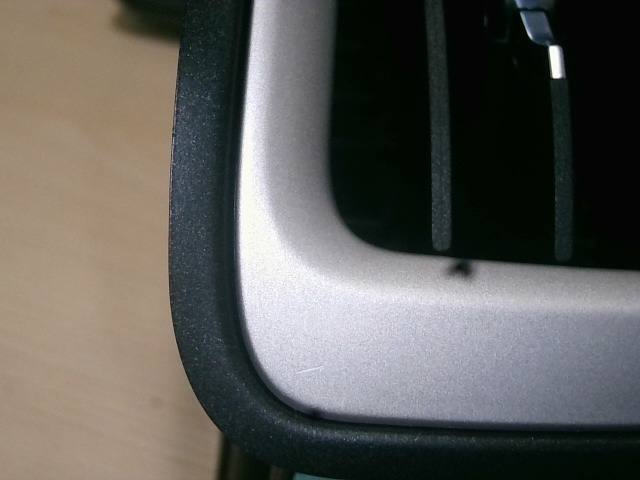NG: (294, 358, 325, 385)
